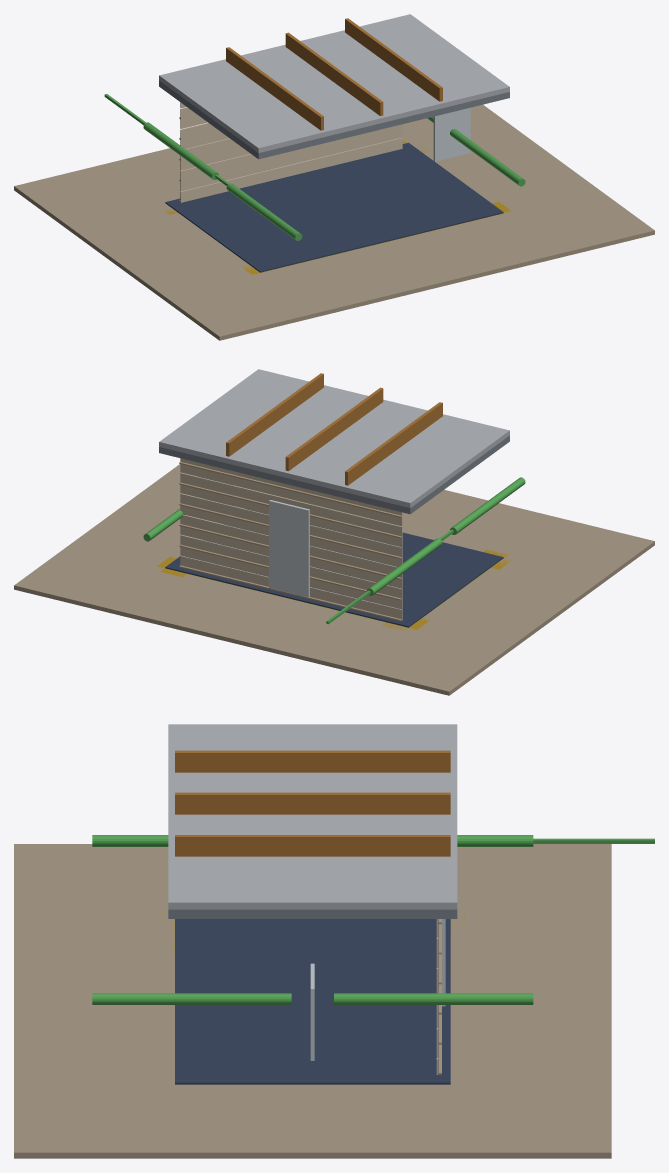
Rendered from stage_10_roof_covering.glb.
3 renders of one model, top to bottom at view 1: azimuth 30°, elevation 25°; view 2: azimuth 150°, elevation 25°; view 3: azimuth 270°, elevation 25°, orthographic. The views are drawn at different scales.
Parts seen in each view (by area): view 1: world; view 2: world; view 3: world.
Boxes of the visible parts, x1=… form: world: x1=14, y1=14, x2=654, y2=340; world: x1=14, y1=369, x2=654, y2=695; world: x1=14, y1=724, x2=654, y2=1158.
Size of the model in its own units: 11 by 4.2 by 9.65.
